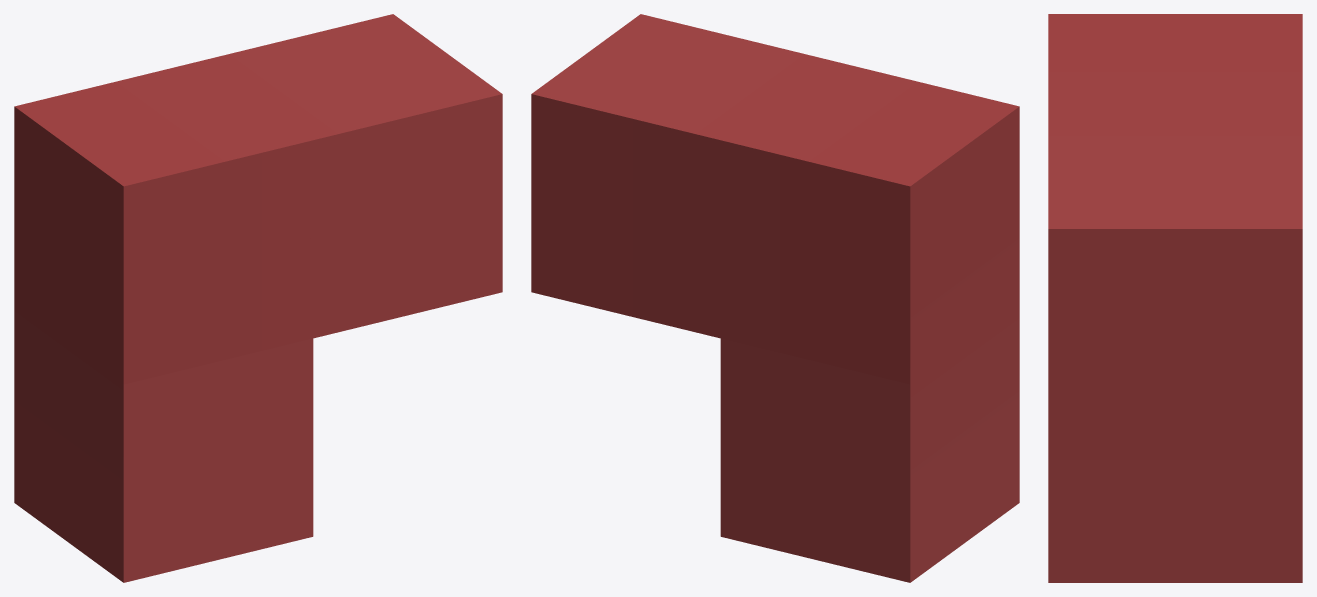
Rendered from Altar_BloodMeter_1.fbx.
The picture shows the model from 3 angles, left to right: view 1: azimuth 30°, elevation 25°; view 2: azimuth 150°, elevation 25°; view 3: azimuth 270°, elevation 25°; orthographic projection. The views are drawn at different scales.
Parts seen in each view (by area): view 1: Altar_BloodMeter_1; view 2: Altar_BloodMeter_1; view 3: Altar_BloodMeter_1.
Boxes of the visible parts, x1,y1,x2,y2 form: Altar_BloodMeter_1: [14, 14, 502, 582]; Altar_BloodMeter_1: [531, 14, 1019, 582]; Altar_BloodMeter_1: [1048, 14, 1302, 582].
Bounding box in the file's own units: 2 × 2 × 1.
Materials: 1 (1 with a texture image).
